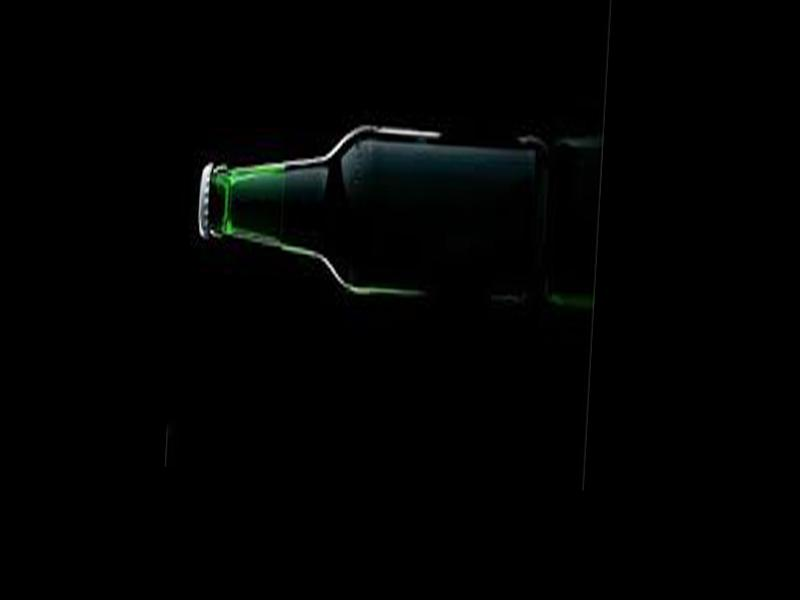Beer: (193, 109, 545, 303)
